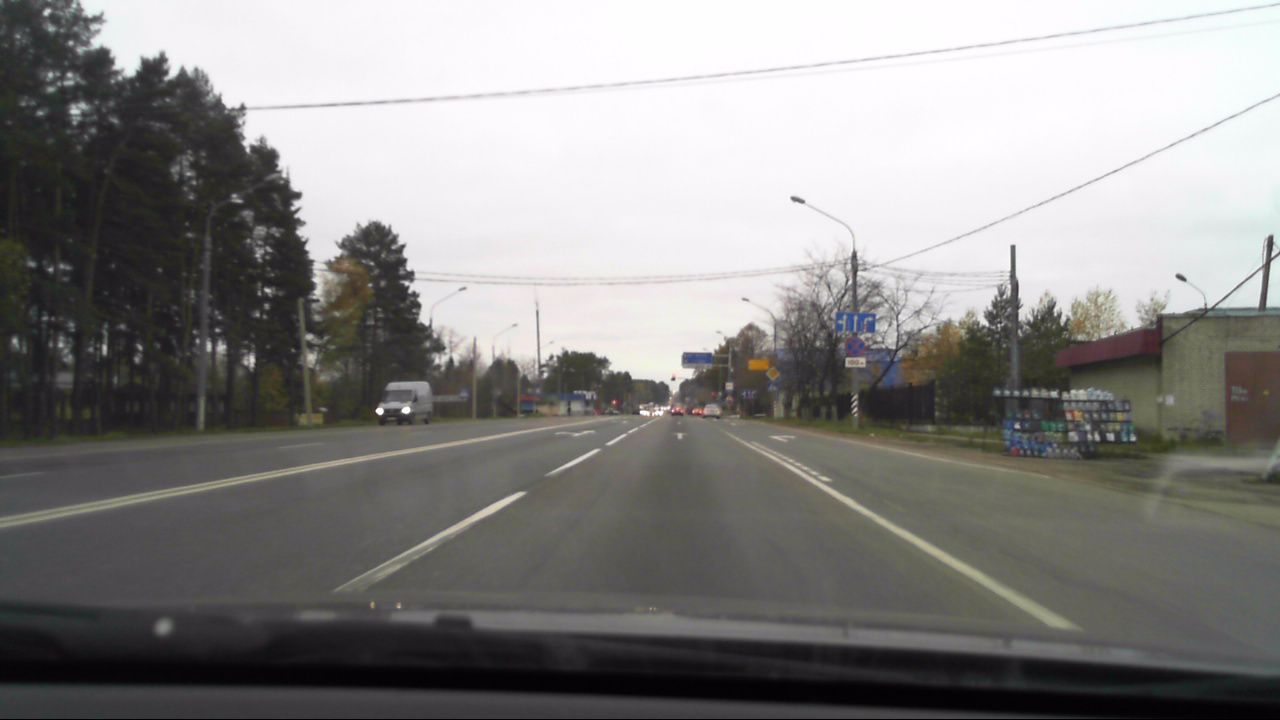No Parking: (843, 336, 864, 356)
